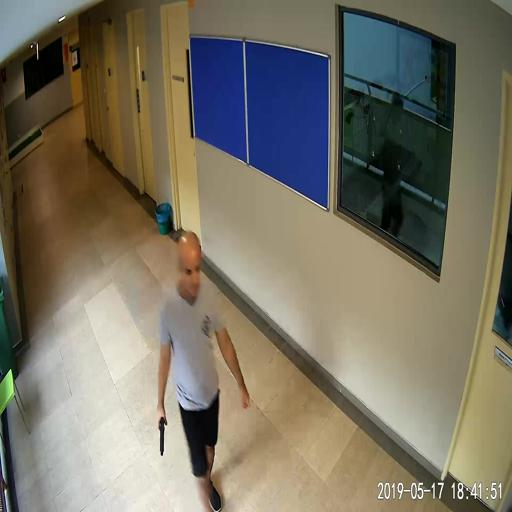pistol: (157, 409, 166, 455)
